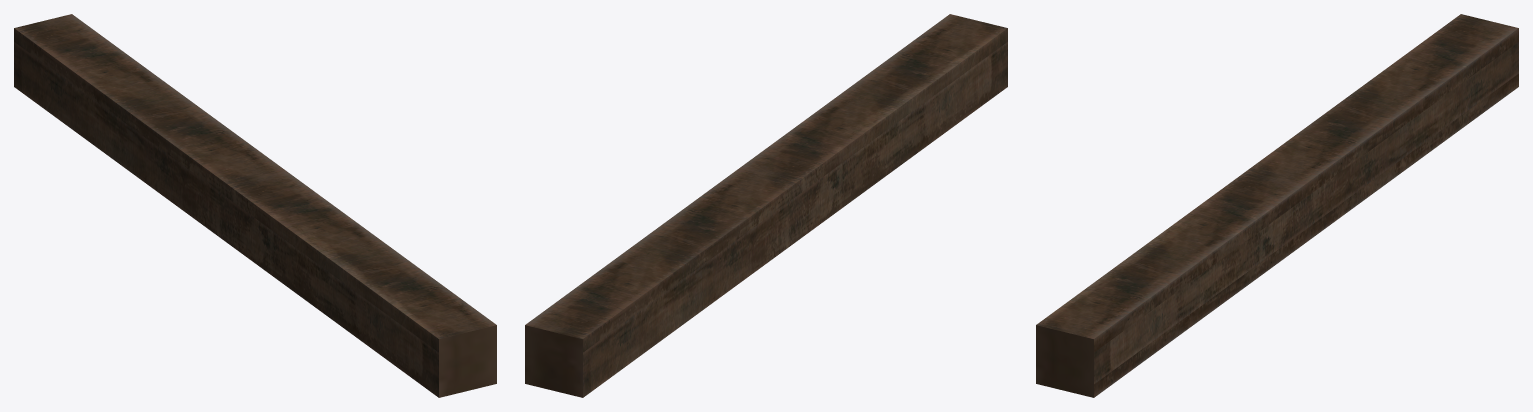
The model's file is Pivot.fbx.
The picture shows the model from 3 angles, left to right: view 1: azimuth 30°, elevation 25°; view 2: azimuth 150°, elevation 25°; view 3: azimuth 330°, elevation 25°; orthographic projection.
Parts seen in each view (by area): view 1: SM_FloorSideA400_LOD0; view 2: SM_FloorSideA400_LOD0; view 3: SM_FloorSideA400_LOD0.
Part boxes in pixels (x1,y1,x2,y2): SM_FloorSideA400_LOD0: (14,14,496,397); SM_FloorSideA400_LOD0: (525,14,1007,397); SM_FloorSideA400_LOD0: (1036,14,1518,397).
Bounding box in the file's own units: 31.5 × 30.51 × 400.
